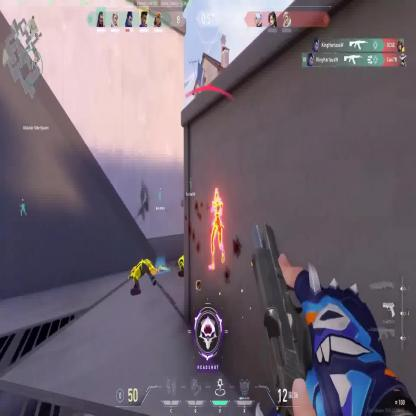enemy: (208, 188, 225, 272)
enemy_head: (214, 188, 219, 200)
